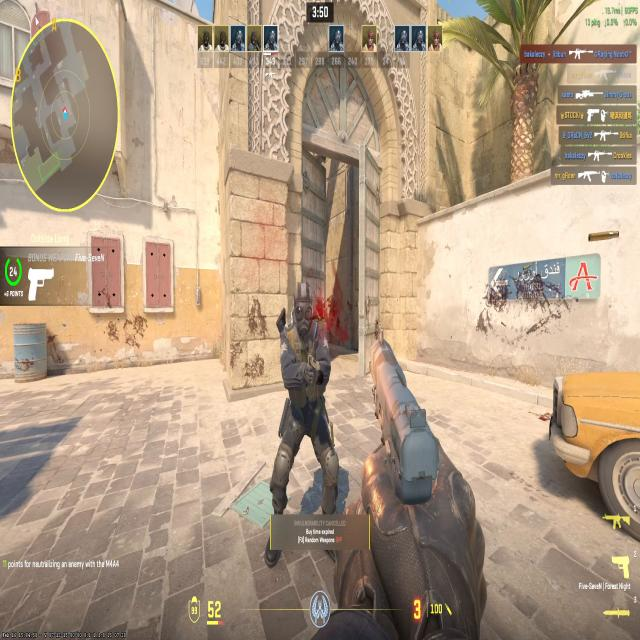player: (263, 268, 347, 570)
